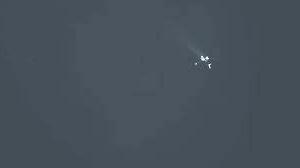Plane: (178, 47, 229, 75)
